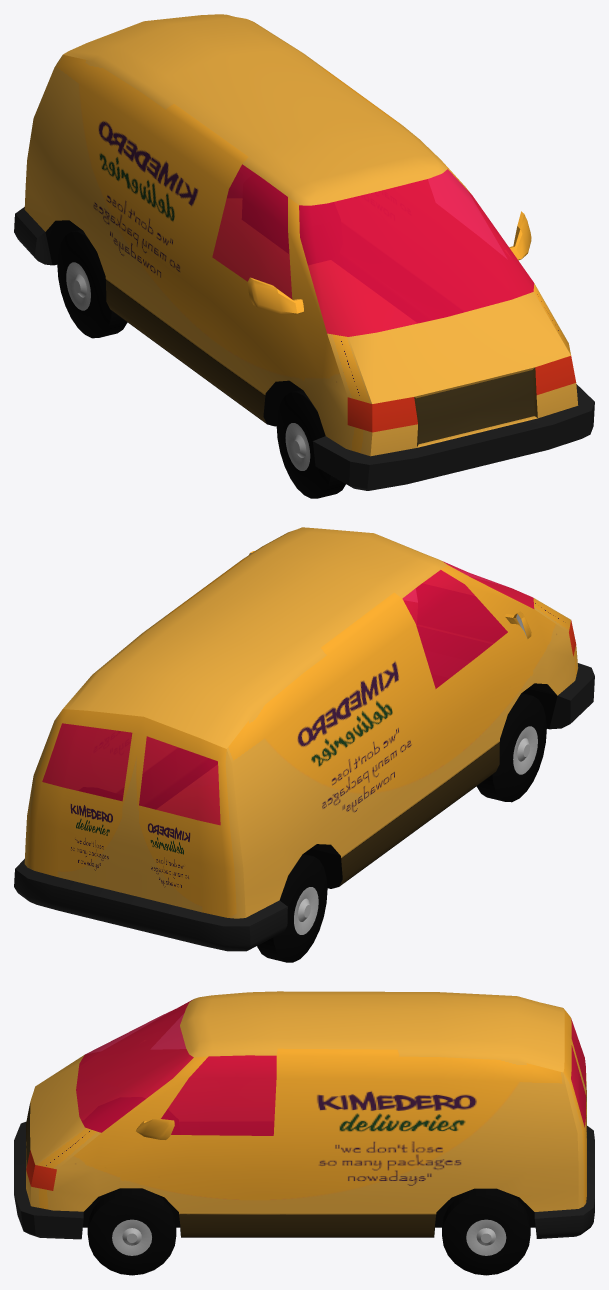
File: DELIVERY VAN.gltf
3 renders of one model, top to bottom at view 1: azimuth 30°, elevation 25°; view 2: azimuth 150°, elevation 25°; view 3: azimuth 270°, elevation 25°, orthographic. The views are drawn at different scales.
Visible parts, largest first — view 1: BODY, WHEEL.BACK.RIGHT, WHEEL.FRONT.RIGHT, MIRRORS; view 2: BODY, WHEEL.FRONT.RIGHT, WHEEL.BACK.RIGHT; view 3: BODY, WHEEL.FRONT.LEFT, WHEEL.BACK.LEFT, MIRRORS.
Boxes of the visible parts, x1,y1,x2,y2 form: BODY: [14, 14, 594, 490]; WHEEL.BACK.RIGHT: [57, 229, 127, 338]; WHEEL.FRONT.RIGHT: [276, 389, 345, 498]; MIRRORS: [247, 211, 531, 314]; BODY: [14, 527, 594, 951]; WHEEL.FRONT.RIGHT: [476, 693, 546, 802]; WHEEL.BACK.RIGHT: [257, 854, 327, 962]; BODY: [14, 991, 594, 1239]; WHEEL.FRONT.LEFT: [87, 1188, 176, 1275]; WHEEL.BACK.LEFT: [442, 1188, 530, 1275]; MIRRORS: [136, 1118, 174, 1139].
Size of the model in its own units: 2.78 by 2.64 by 6.25.
8 materials, 1 textured.
